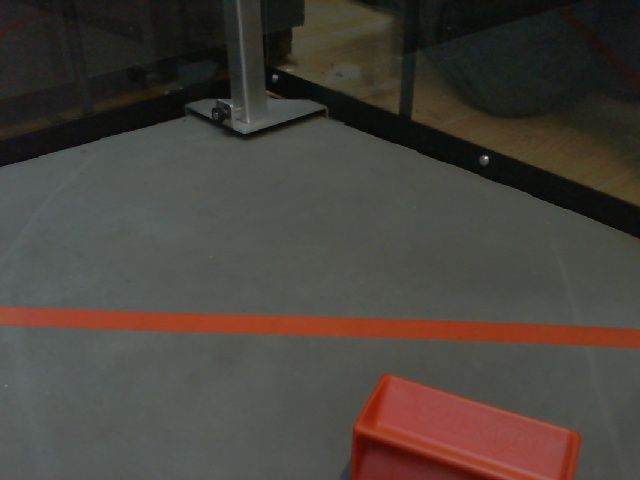RedSample: (347, 371, 582, 480)
